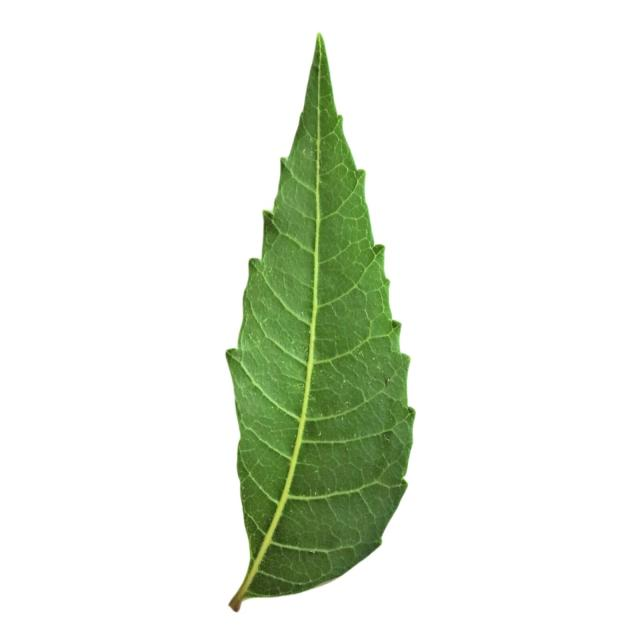Medicinal-Neem: (222, 27, 416, 610)
